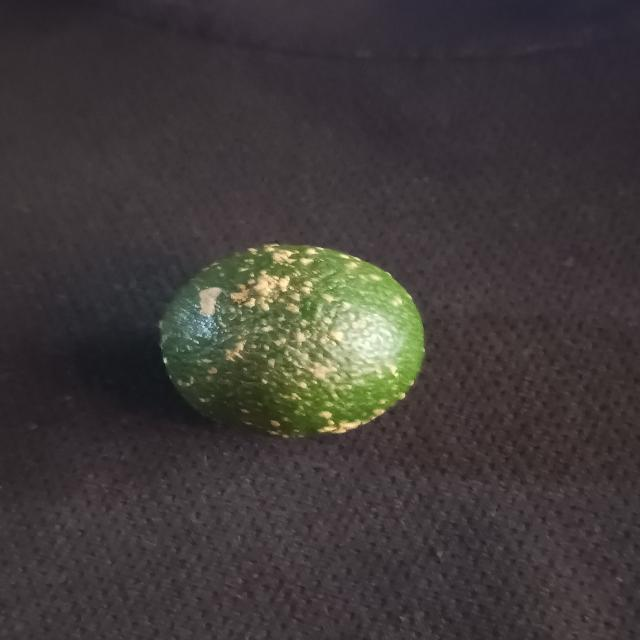scab: (155, 245, 426, 441)
